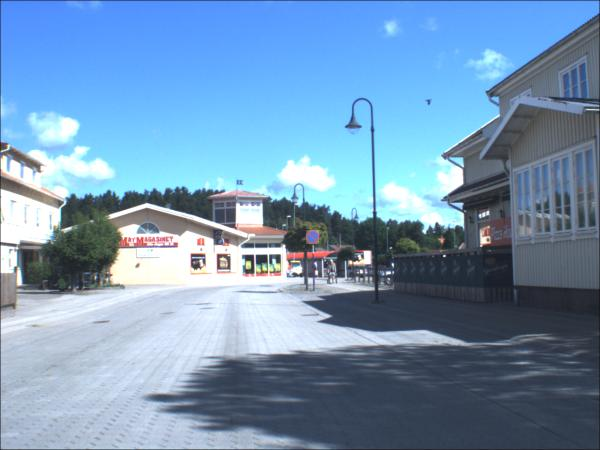NO_PARKING: (307, 231, 321, 246)
